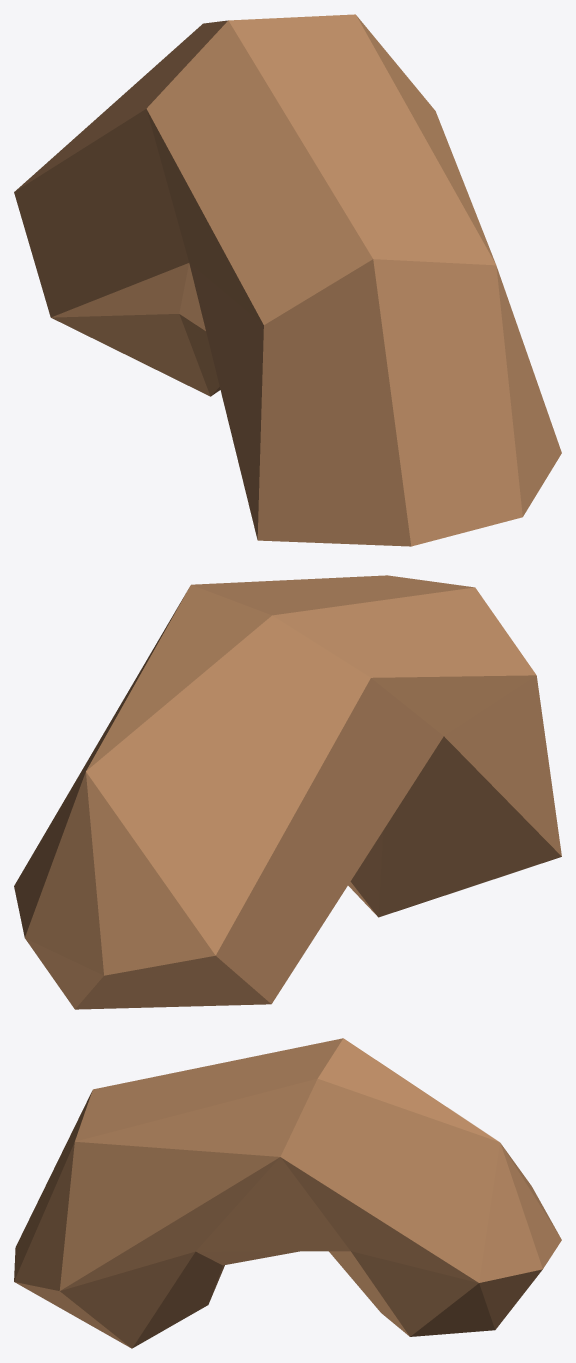
The model's file is rock3.fbx.
3 views of the same model, one above another, from view 1: azimuth 30°, elevation 25°; view 2: azimuth 150°, elevation 25°; view 3: azimuth 270°, elevation 25° (orthographic). The views are drawn at different scales.
Visible parts, largest first — view 1: rock3; view 2: rock3; view 3: rock3.
Boxes of the visible parts, <box> form: rock3: <box>14,14,561,546</box>; rock3: <box>14,575,561,1009</box>; rock3: <box>14,1038,561,1348</box>.
Bounding box in the file's own units: 362 × 432 × 768.
